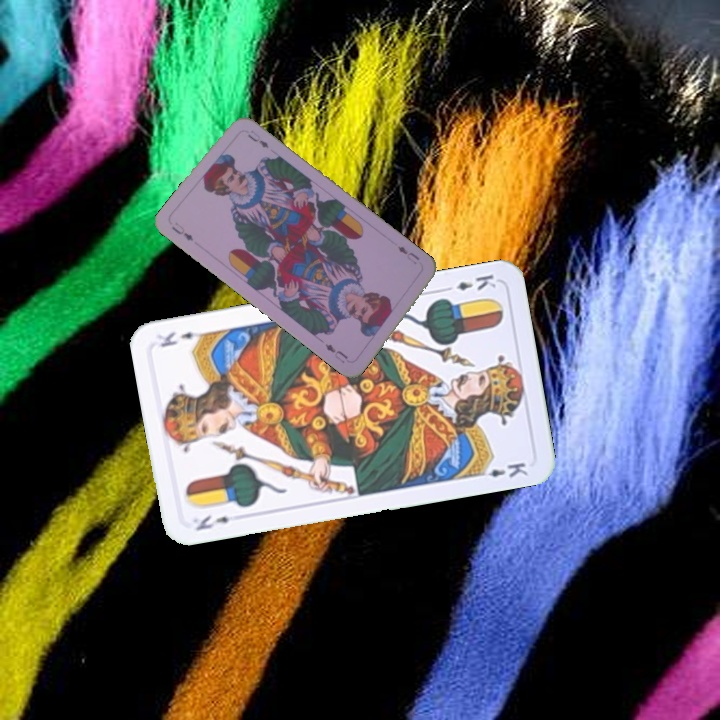EK: (439, 270, 499, 295), (192, 511, 232, 534)
EU: (393, 241, 422, 267), (167, 218, 196, 243)
